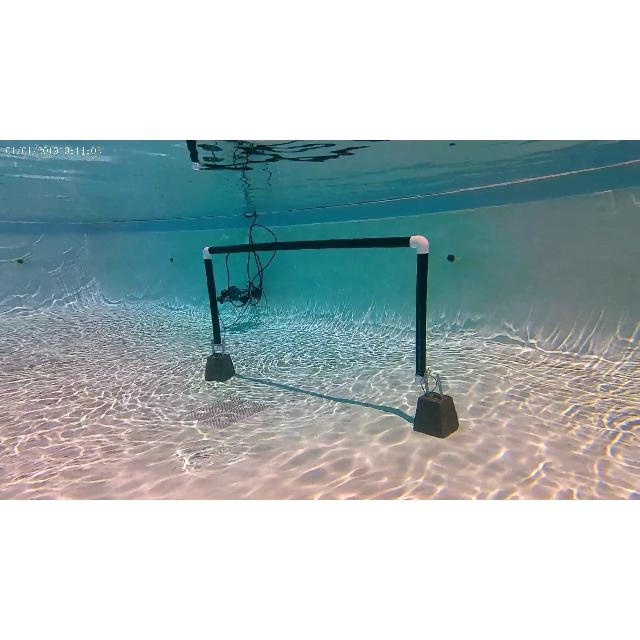prequal gate: (202, 236, 430, 386)
prequal gate leg l: (198, 245, 236, 382)
prequal gate leg r: (402, 234, 458, 436)
